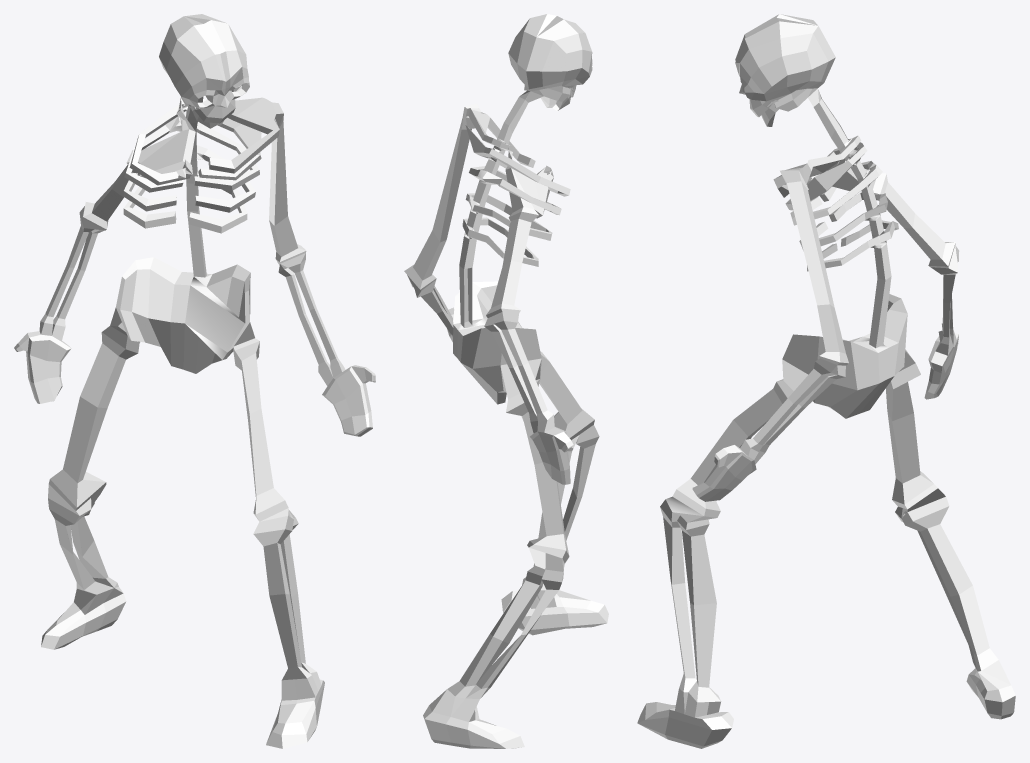
File: SkeletonIdle(109).obj
3 renders of one model, left to right at view 1: azimuth 30°, elevation 25°; view 2: azimuth 150°, elevation 25°; view 3: azimuth 270°, elevation 25°, orthographic. The views are drawn at different scales.
Parts seen in each view (by area): view 1: Object002; view 2: Object002; view 3: Object002.
Boxes of the visible parts, <box> form: Object002: <box>14,14,375,748</box>; Object002: <box>404,14,608,748</box>; Object002: <box>637,14,1015,748</box>.
Bounding box in the file's own units: 423 × 1123 × 554.
